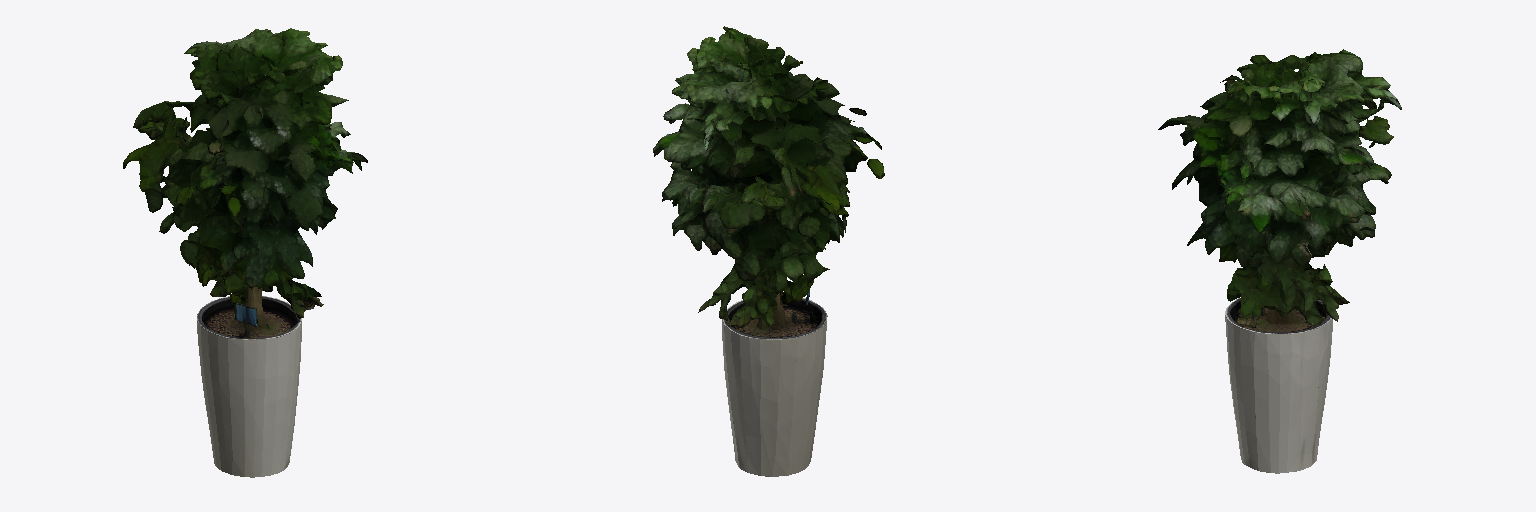
The picture shows the model from 3 angles: view 1: azimuth 30°, elevation 25°; view 2: azimuth 150°, elevation 25°; view 3: azimuth 270°, elevation 25°; orthographic projection.
Parts seen in each view (by area): view 1: geometry_0; view 2: geometry_0; view 3: geometry_0.
Boxes of the visible parts, x1=… form: geometry_0: x1=123, y1=28, x2=367, y2=477; geometry_0: x1=653, y1=26, x2=884, y2=476; geometry_0: x1=1158, y1=49, x2=1401, y2=473.
Size of the model in its own units: 0.5216 by 0.9981 by 0.542.
Materials: 1 (1 with a texture image).